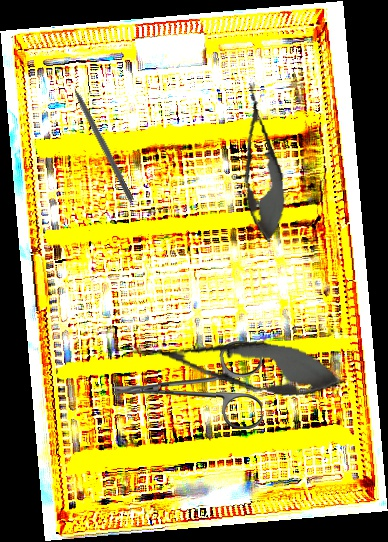Hook Surgical: (64, 71, 136, 203)
Iris Scissors: (111, 340, 263, 432)
Micro Scissor: (125, 322, 349, 406), (231, 80, 292, 244)
